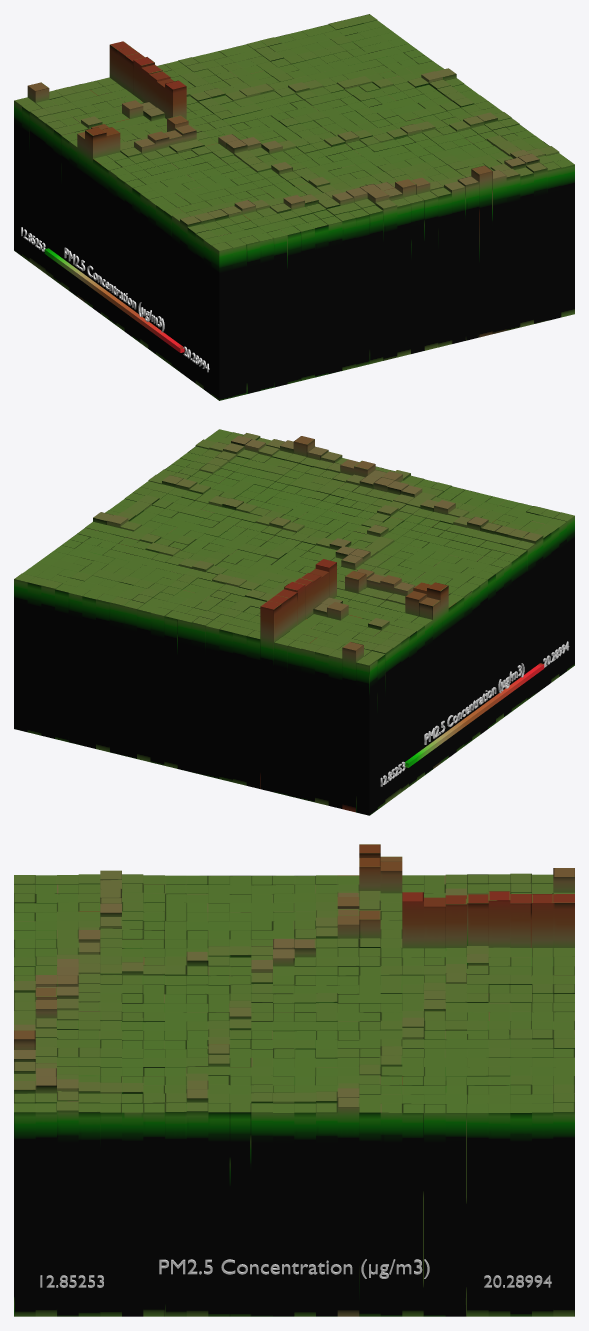
The picture shows the model from 3 angles, top to bottom: view 1: azimuth 30°, elevation 25°; view 2: azimuth 150°, elevation 25°; view 3: azimuth 270°, elevation 25°; orthographic projection. The views are drawn at different scales.
Visible parts, largest first — view 1: Cube.020, Cube.002, Text.001; view 2: Cube.020, Cube.002, Text.001; view 3: Cube.020, Text.003.
Boxes of the visible parts, bbox=[...] form: Cube.020: bbox=[14, 14, 574, 400]; Cube.002: bbox=[44, 248, 184, 352]; Text.001: bbox=[64, 247, 164, 332]; Cube.020: bbox=[14, 429, 574, 815]; Cube.002: bbox=[405, 663, 544, 767]; Text.001: bbox=[424, 663, 524, 744]; Cube.020: bbox=[14, 844, 574, 1316]; Text.003: bbox=[159, 1259, 429, 1278].
Size of the model in its own units: 51 by 24.79 by 50.01.
3 materials, 2 textured.
